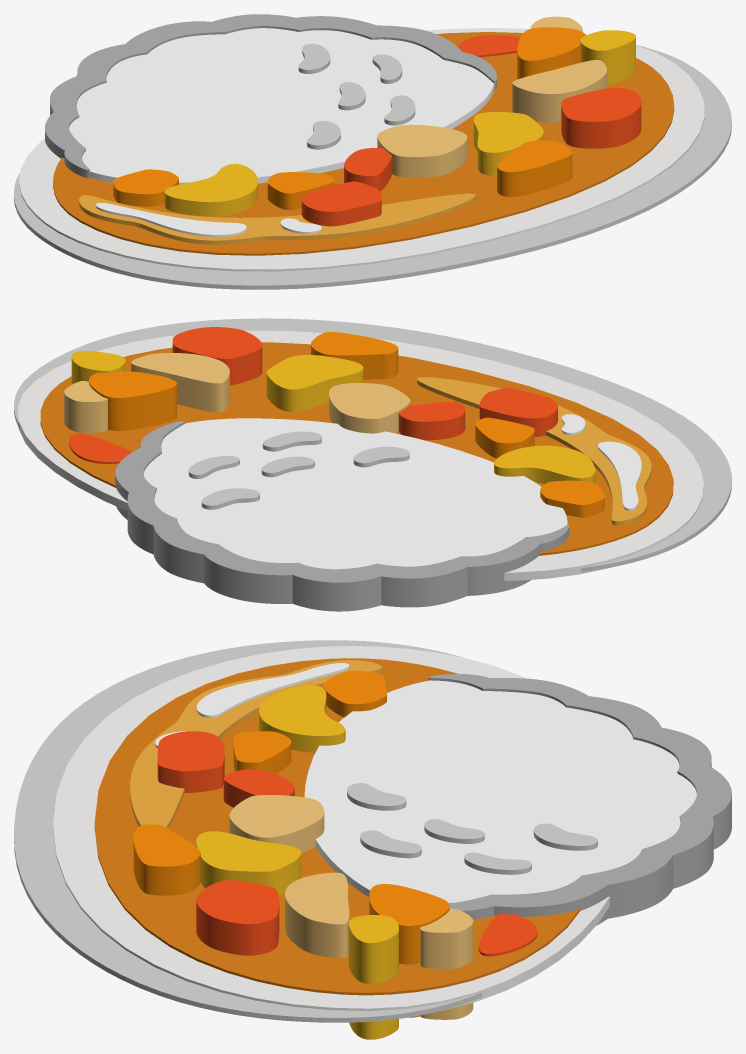
File: emoji_u1f35b.glb
The picture shows the model from 3 angles, top to bottom: view 1: azimuth 30°, elevation 25°; view 2: azimuth 150°, elevation 25°; view 3: azimuth 270°, elevation 25°; orthographic projection. The views are drawn at different scales.
Parts seen in each view (by area): view 1: emoji_u1f35b; view 2: emoji_u1f35b; view 3: emoji_u1f35b.
Boxes of the visible parts, x1,y1,x2,y2 form: emoji_u1f35b: (14, 14, 731, 289); emoji_u1f35b: (14, 318, 731, 611); emoji_u1f35b: (14, 640, 731, 1039).
Size of the model in its own units: 0.0335 by 0.004 by 0.0269.
